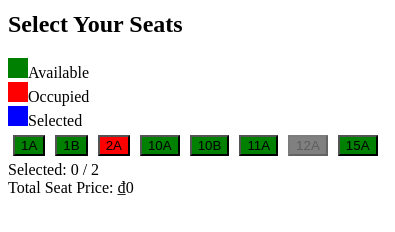
Scenario: TC-TRV-SEAT: Traveler Seat Selection Tests › TC-TRV-SEAT-012: should display error when seat is taken by another user concurrently
# User B selects 10A (but it's already taken by User A)
What coordinates should you click on to do the following:
click the button with test id "seat-10A"
I would click on:
 (160, 145)
Its box is [140,135,180,156].
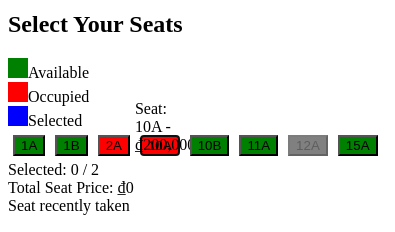
Expected: the text with test id "seat-error" reads "Seat recently taken", [8,197,130,214]
